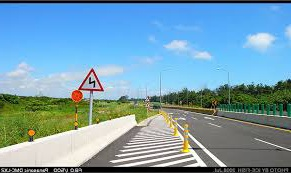Double_bend_left: (77, 67, 105, 92)
